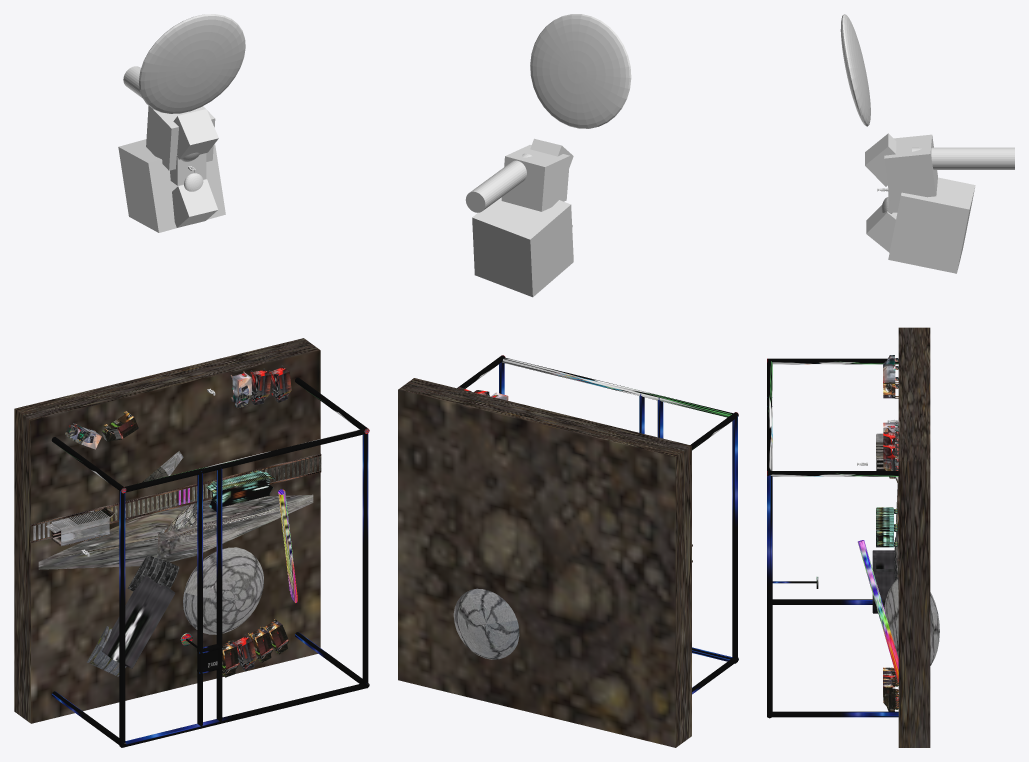
The model's file is trainkinda.glb.
3 renders of one model, left to right at view 1: azimuth 30°, elevation 25°; view 2: azimuth 150°, elevation 25°; view 3: azimuth 270°, elevation 25°, orthographic. The views are drawn at different scales.
Parts seen in each view (by area): view 1: Cube.005, Cube.009, Sphere.002, Sphere.003, Cube.004, Cube.013, Cube.003, Cylinder.006, Cylinder.005, Cylinder.010, Cylinder.008, Cube.001 (+14 smaller); view 2: Cube.005, Sphere.002, Cube.004, Sphere.003, Cube.003, Cylinder, Cylinder.008, Cylinder.006; view 3: Cube.005, Cube.004, Cube.003, Cylinder, Sphere.002, Cylinder.005, Sphere.003, Cylinder.083, Cube.013, Cube.001, Cube.002, Cylinder.004 (+5 smaller).
Boxes of the visible parts, bbox=[...] form: Cube.005: bbox=[14, 338, 320, 723]; Cube.009: bbox=[38, 494, 313, 569]; Sphere.002: bbox=[139, 14, 245, 113]; Sphere.003: bbox=[183, 547, 263, 634]; Cube.004: bbox=[118, 139, 225, 232]; Cube.013: bbox=[102, 575, 175, 668]; Cube.003: bbox=[146, 106, 215, 170]; Cylinder.006: bbox=[119, 490, 125, 746]; Cylinder.005: bbox=[362, 433, 368, 684]; Cylinder.010: bbox=[216, 466, 222, 723]; Cylinder.008: bbox=[124, 428, 365, 492]; Cube.001: bbox=[173, 109, 218, 159]; Cube.005: bbox=[398, 378, 691, 747]; Sphere.002: bbox=[530, 14, 631, 128]; Cube.004: bbox=[472, 197, 573, 297]; Sphere.003: bbox=[453, 588, 519, 659]; Cube.003: bbox=[501, 145, 569, 211]; Cylinder: bbox=[465, 153, 531, 212]; Cylinder.008: bbox=[502, 357, 732, 417]; Cylinder.006: bbox=[732, 416, 737, 662]; Cube.005: bbox=[898, 327, 930, 747]; Cube.004: bbox=[888, 177, 975, 273]; Cube.003: bbox=[884, 134, 937, 200]; Cylinder: bbox=[912, 147, 1014, 169]; Sphere.002: bbox=[840, 14, 870, 126]; Cylinder.005: bbox=[767, 475, 772, 717]; Sphere.003: bbox=[884, 579, 939, 665]; Cylinder.083: bbox=[857, 540, 898, 682]; Cube.013: bbox=[872, 550, 894, 613]; Cube.001: bbox=[865, 133, 896, 186]; Cube.002: bbox=[866, 205, 897, 252]; Cylinder.004: bbox=[767, 711, 898, 717].
Size of the model in its own units: 100 by 230 by 78.43.
25 materials, 25 textured.
